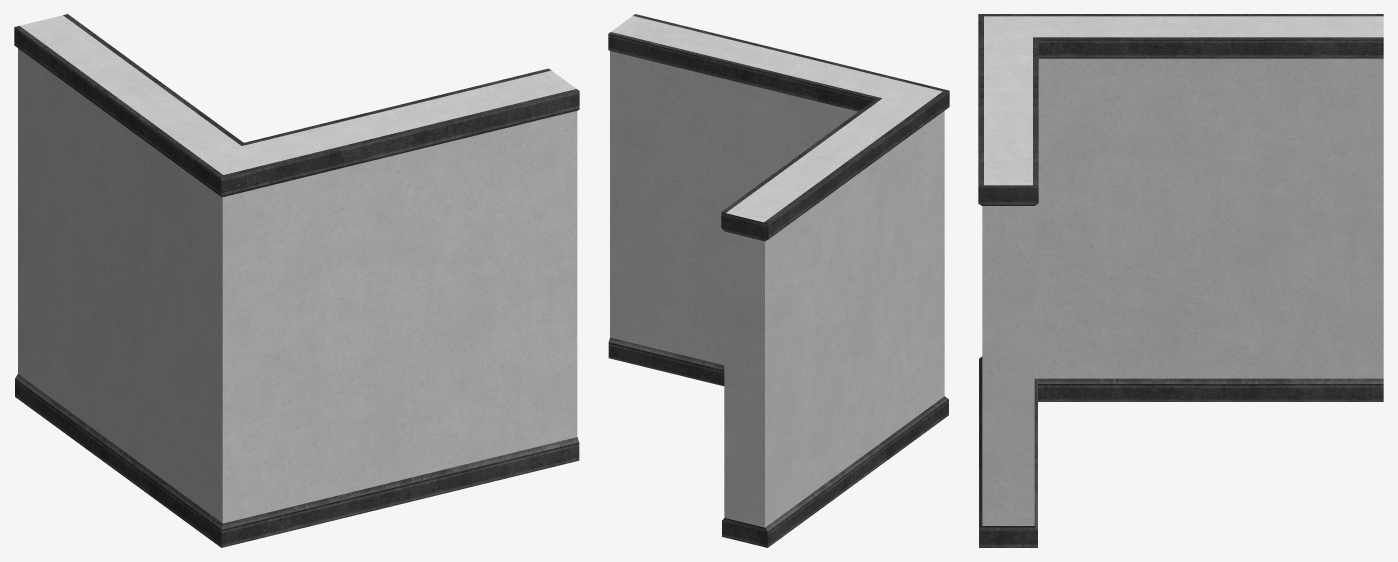
The model's file is MB_Fence_D_Angle.fbx.
3 renders of one model, left to right at view 1: azimuth 30°, elevation 25°; view 2: azimuth 150°, elevation 25°; view 3: azimuth 270°, elevation 25°, orthographic. The views are drawn at different scales.
Parts seen in each view (by area): view 1: MB_Fence_D_Angle; view 2: MB_Fence_D_Angle; view 3: MB_Fence_D_Angle.
Part boxes in pixels (<box>): MB_Fence_D_Angle: <box>14,14,579,547</box>; MB_Fence_D_Angle: <box>608,14,949,547</box>; MB_Fence_D_Angle: <box>978,14,1383,547</box>.
Size of the model in its own units: 232 by 229 by 232.
